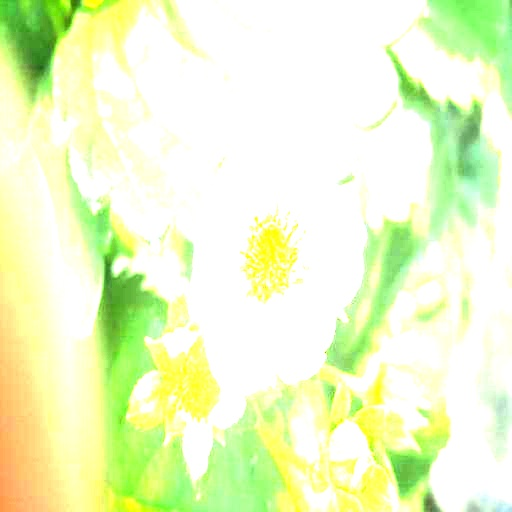Blossom Blight: (231, 199, 314, 309)
